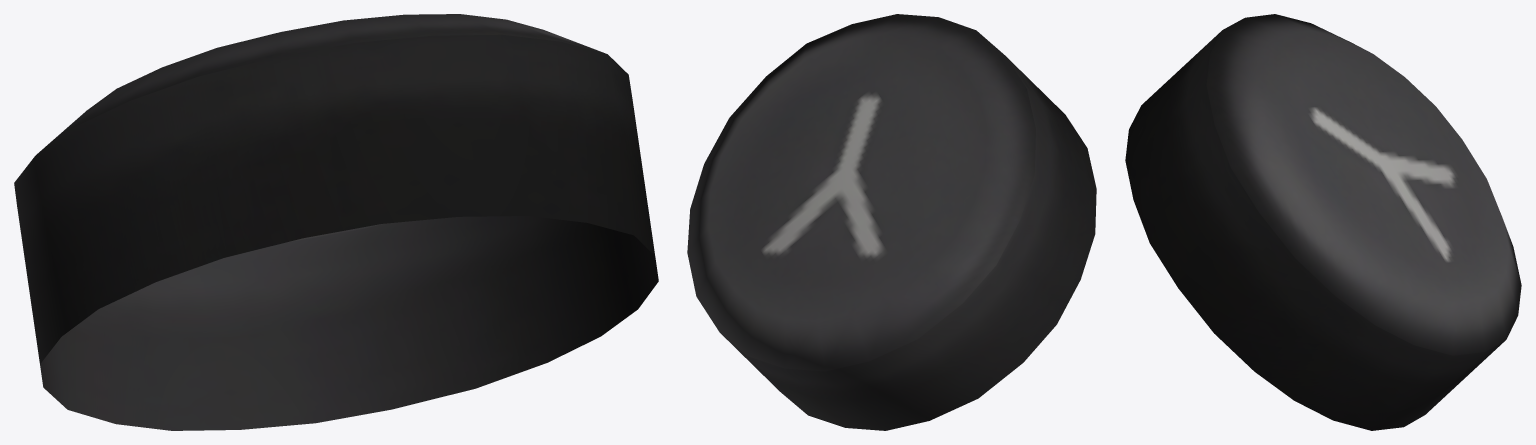
Rendered from L_upperButton.obj.
The picture shows the model from 3 angles, left to right: view 1: azimuth 30°, elevation 25°; view 2: azimuth 150°, elevation 25°; view 3: azimuth 270°, elevation 25°; orthographic projection. The views are drawn at different scales.
Parts seen in each view (by area): view 1: L_upperButton; view 2: L_upperButton; view 3: L_upperButton.
Boxes of the visible parts, x1=… form: L_upperButton: x1=14, y1=14, x2=658, y2=430; L_upperButton: x1=687, y1=14, x2=1096, y2=430; L_upperButton: x1=1125, y1=14, x2=1521, y2=430.
Bounding box in the file's own units: 0.0108 × 0.00941 × 0.00971.
1 material, 1 textured.
